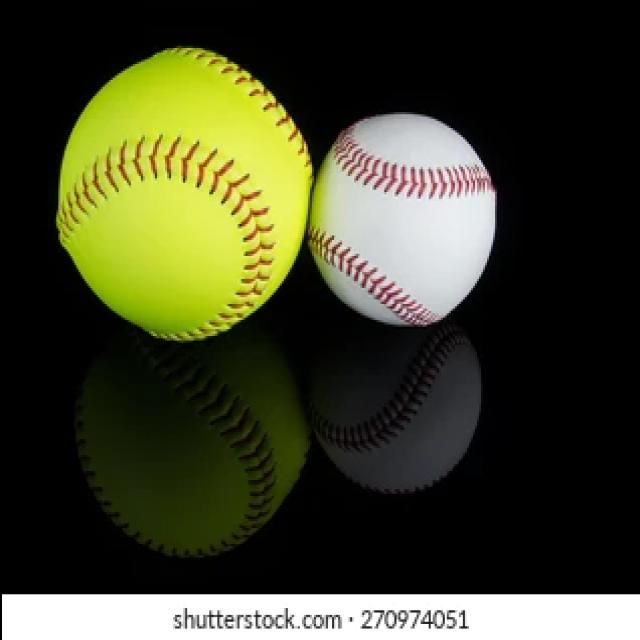beisbol ball: (308, 115, 496, 325)
softball ball: (55, 48, 311, 338)
